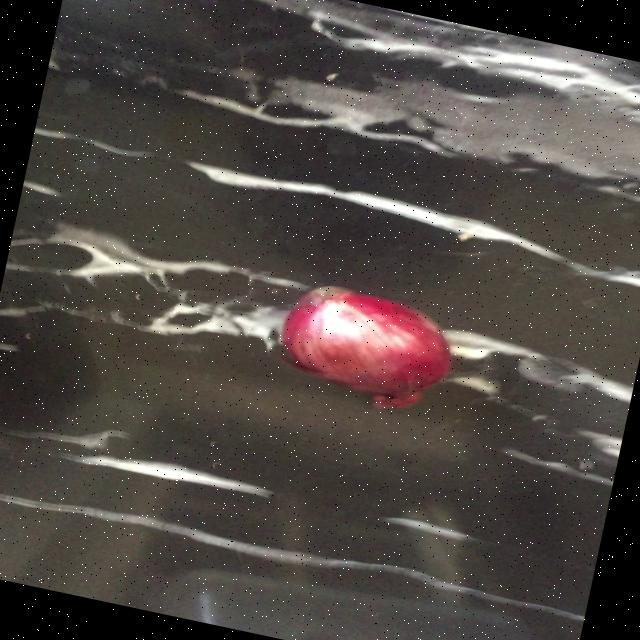Onion: (280, 284, 451, 408)
